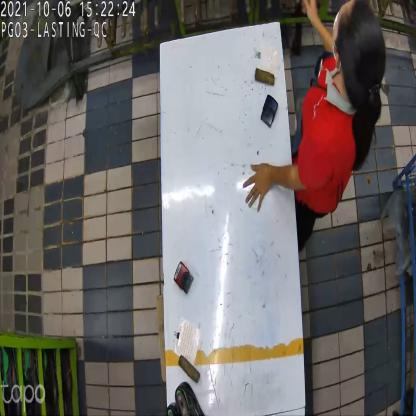stamp: (259, 95, 278, 129), (176, 260, 194, 294)
